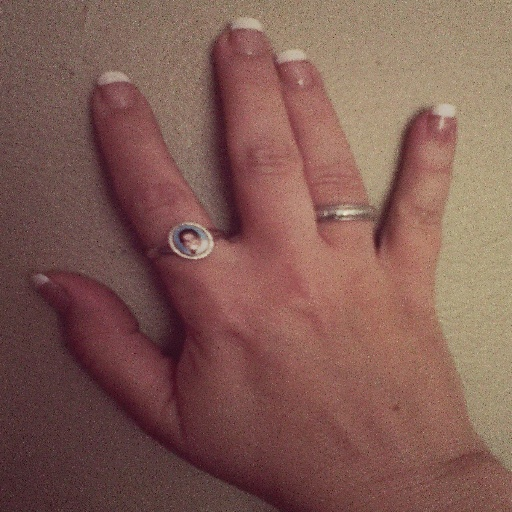hand: (10, 19, 493, 461)
